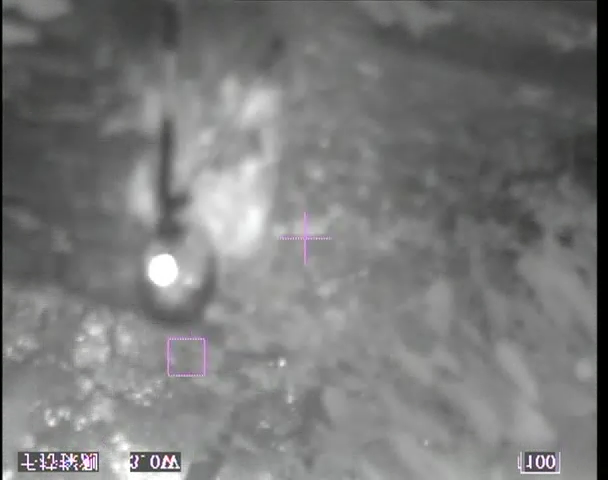my: (146, 251, 182, 287)
